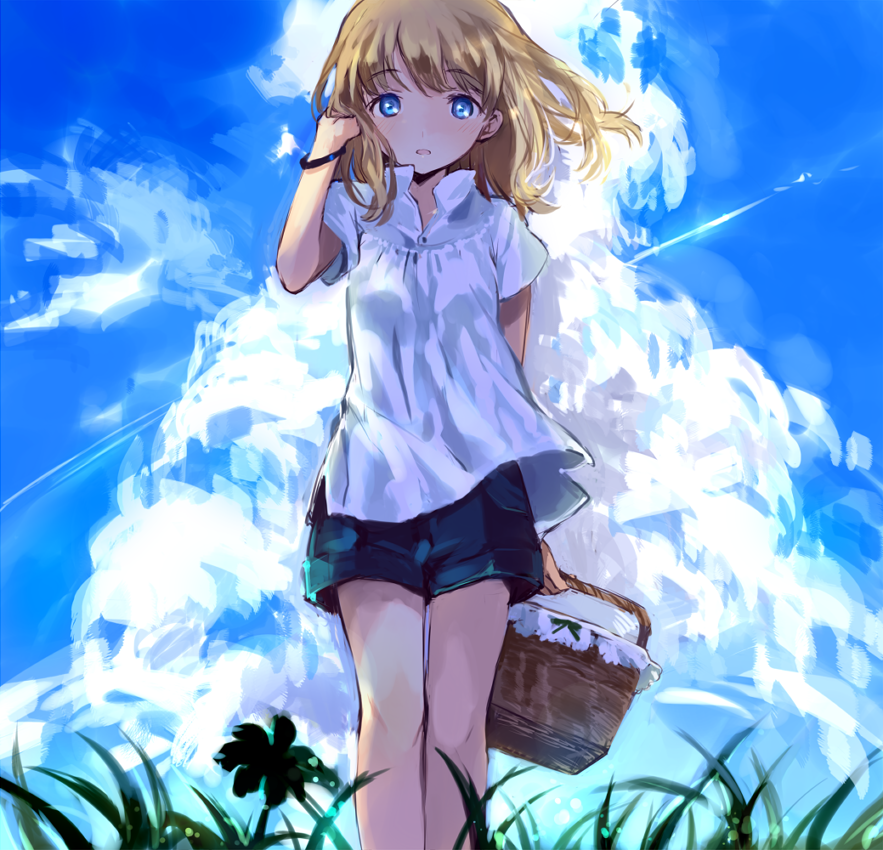纸片人正脸: (317, 3, 528, 190)
